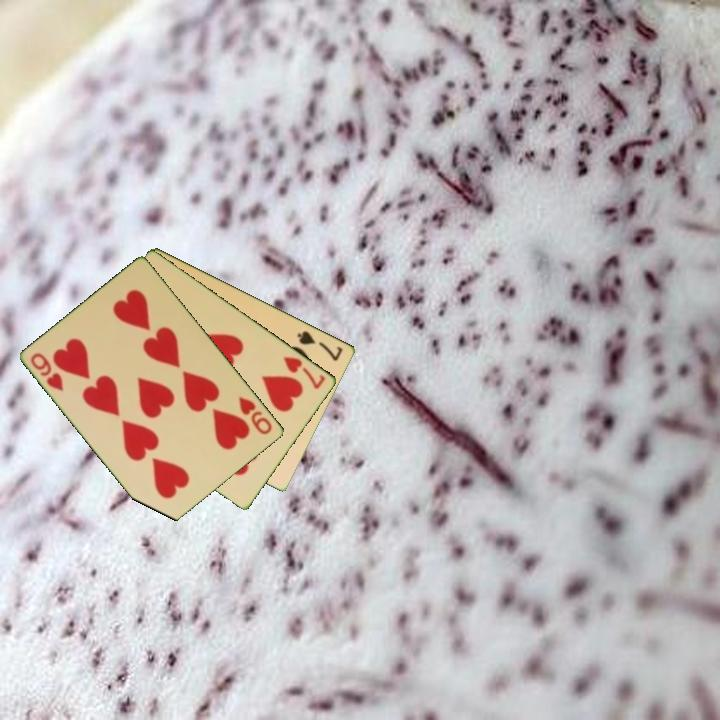7h: (280, 353, 329, 392)
7s: (294, 327, 346, 364)
9h: (235, 393, 275, 438), (27, 349, 67, 394)
